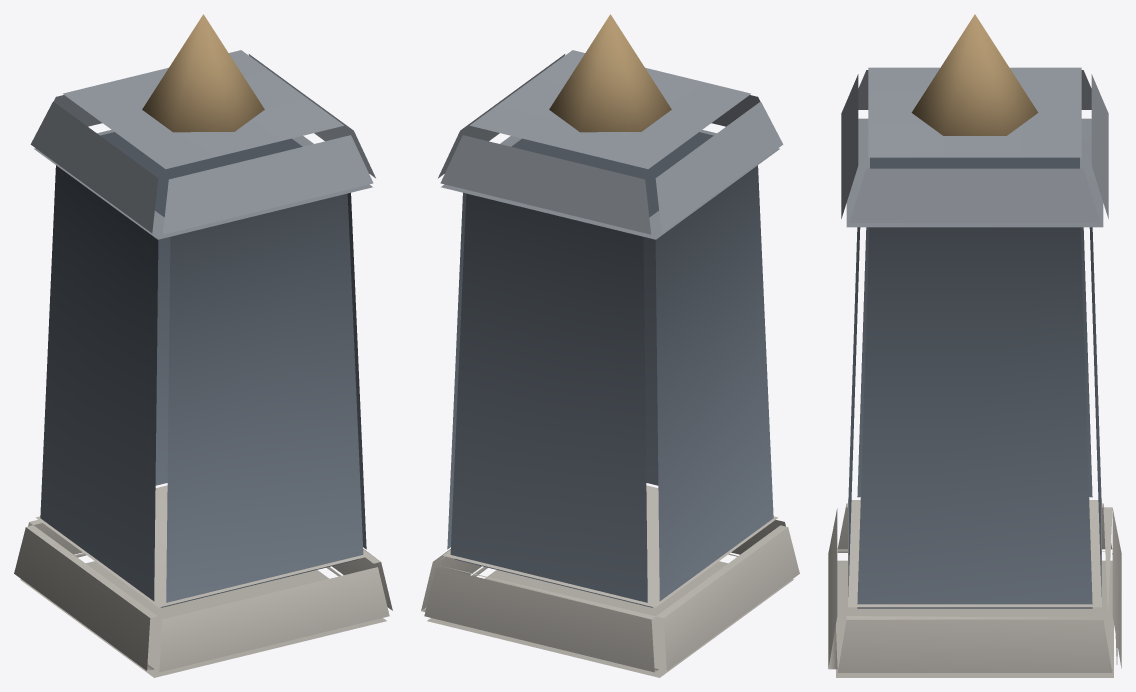
The model's file is wall_lv2_pillar_lod2.glb.
3 views of the same model, side by side, from view 1: azimuth 30°, elevation 25°; view 2: azimuth 150°, elevation 25°; view 3: azimuth 270°, elevation 25° (orthographic). The views are drawn at different scales.
Visible parts, largest first — view 1: wall_lv2_pillar.001; view 2: wall_lv2_pillar.001; view 3: wall_lv2_pillar.001.
Part boxes in pixels (box(x1,y1,x2,y2)): wall_lv2_pillar.001: box(14, 14, 392, 677); wall_lv2_pillar.001: box(421, 14, 799, 677); wall_lv2_pillar.001: box(828, 14, 1121, 677).
Size of the model in its own units: 0.9703 by 2.21 by 0.9703.
